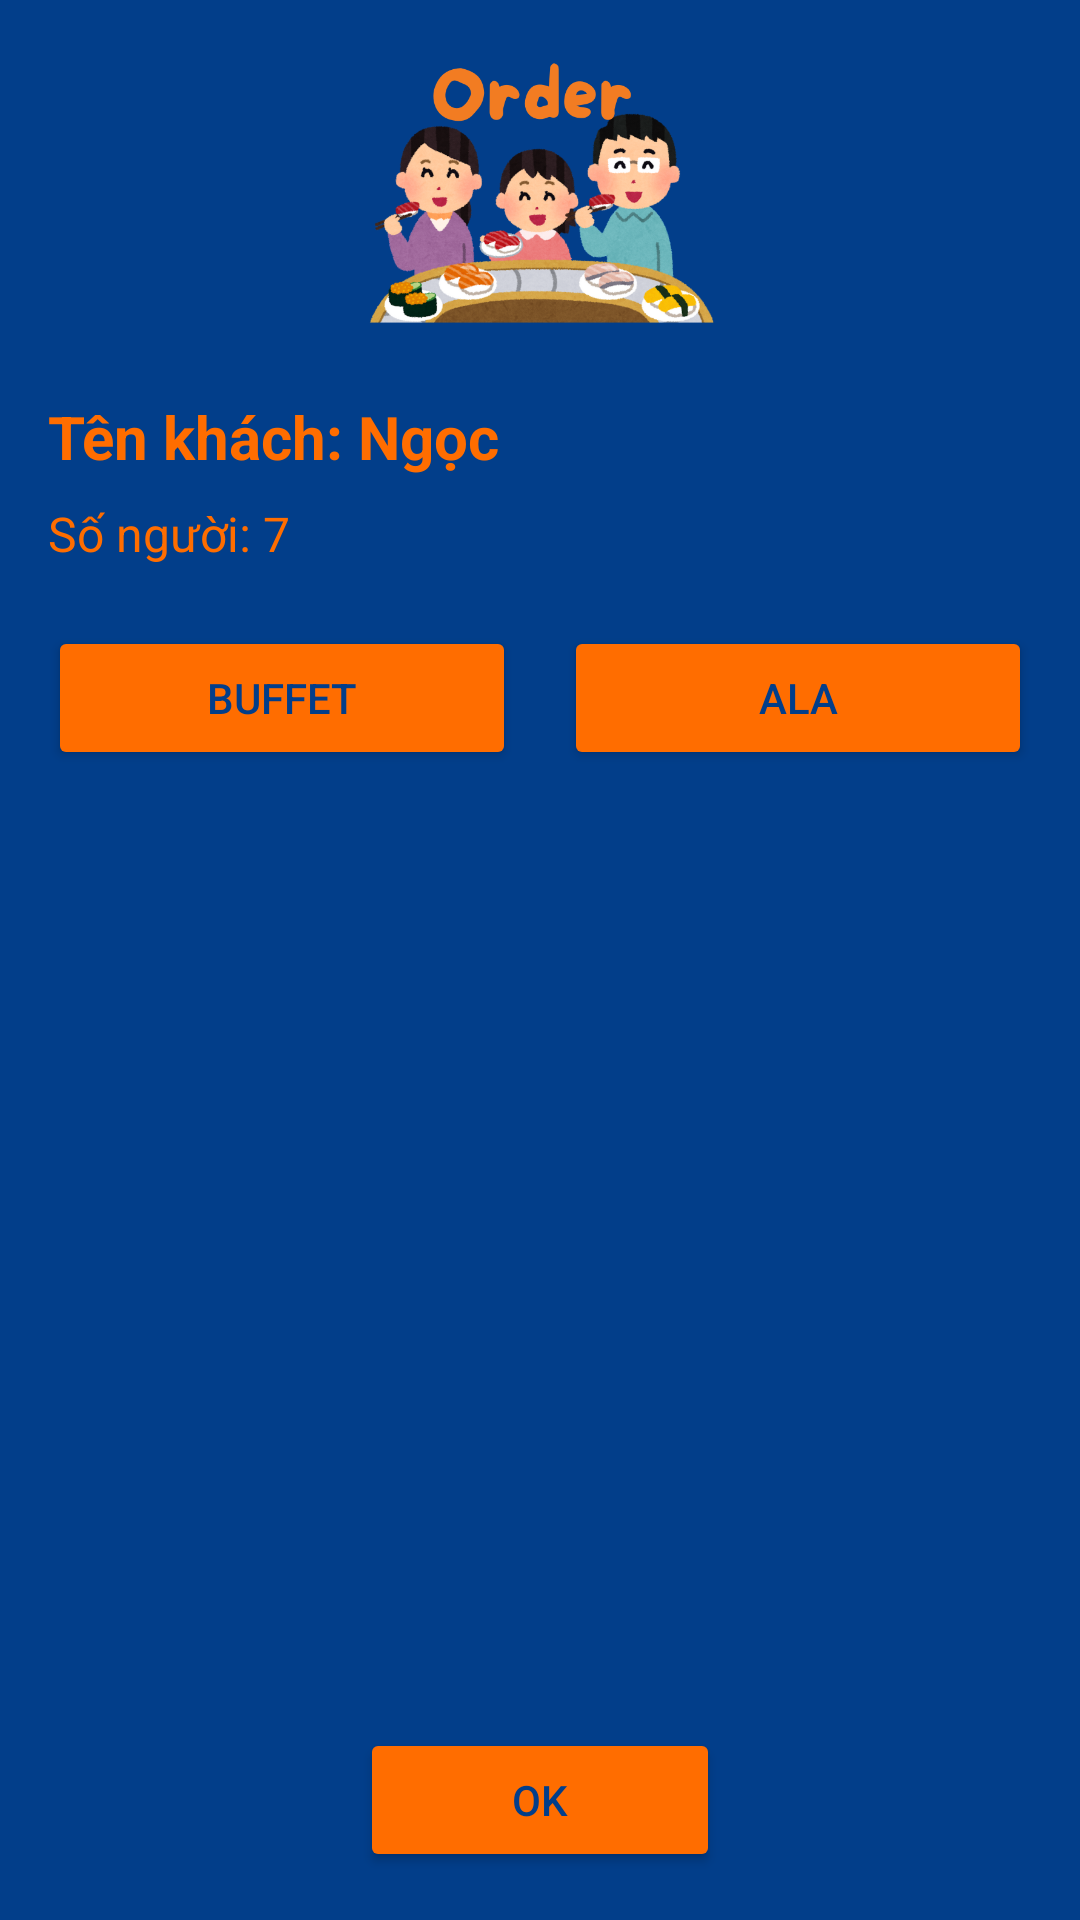

Where to tap for icons on this 1080×1920 app screen, as point (x, y):
Header Image: point (542, 193)
